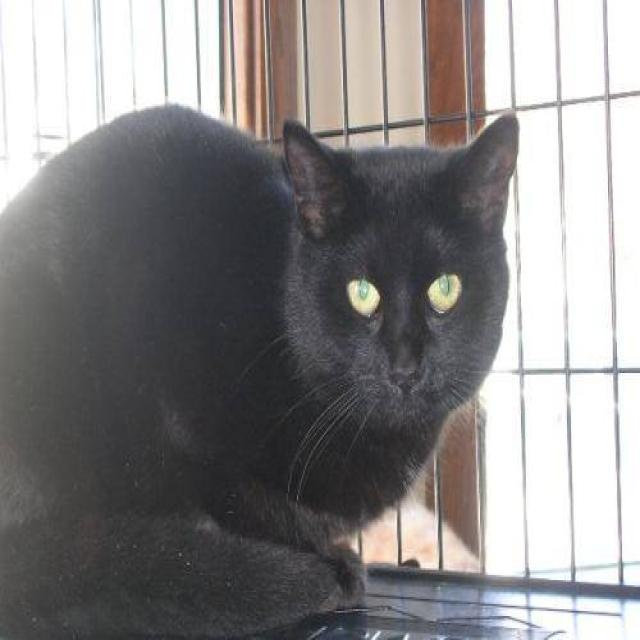cat: (0, 101, 520, 638)
